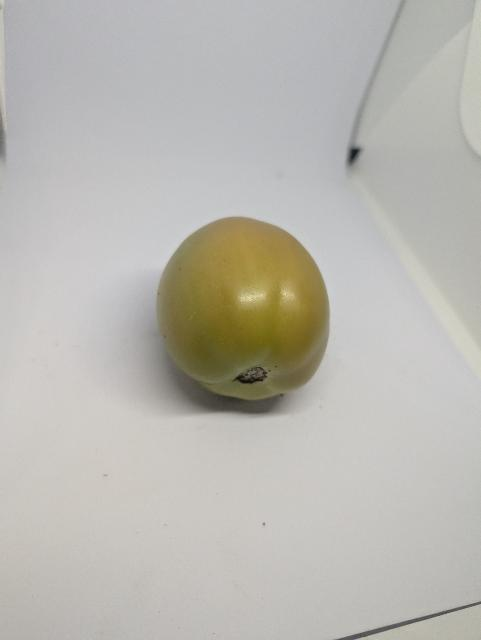breaker: (157, 217, 330, 399)
